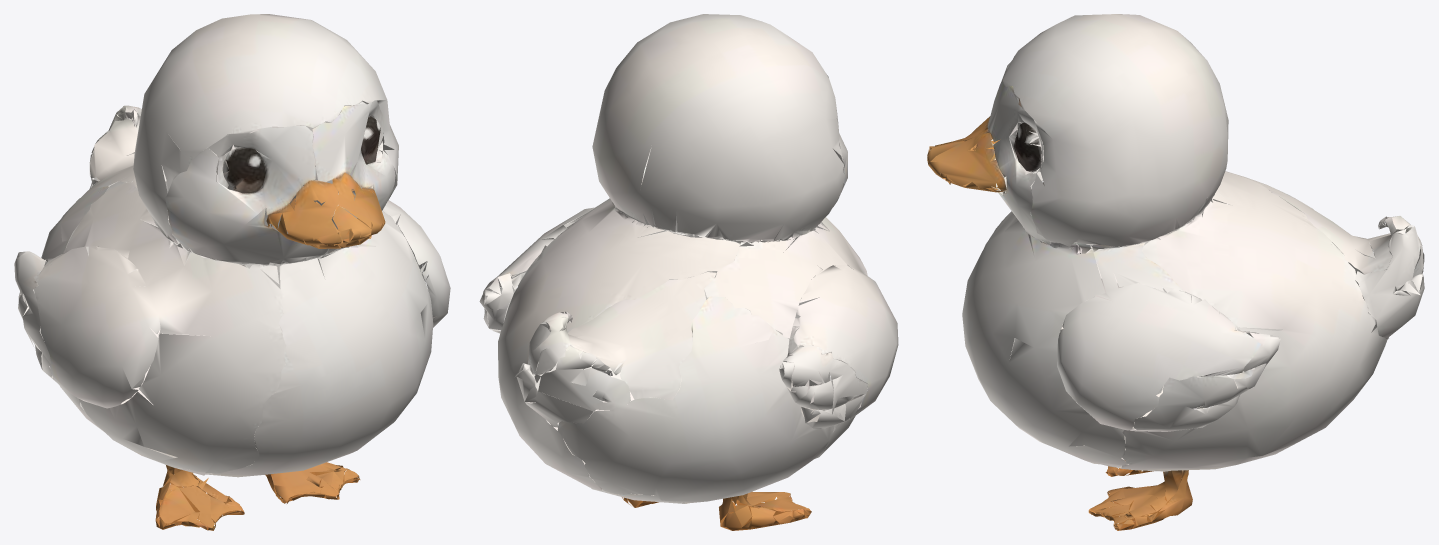
File: duck.glb
3 renders of one model, left to right at view 1: azimuth 30°, elevation 25°; view 2: azimuth 150°, elevation 25°; view 3: azimuth 270°, elevation 25°, orthographic. The views are drawn at different scales.
Visible parts, largest first — view 1: model; view 2: model; view 3: model.
Part boxes in pixels (x1=…): model: x1=14, y1=14, x2=450, y2=530; model: x1=479, y1=14, x2=898, y2=530; model: x1=927, y1=14, x2=1424, y2=530.
Bounding box in the file's own units: 1.51 × 1.9 × 1.84.
Materials: 1 (1 with a texture image).
